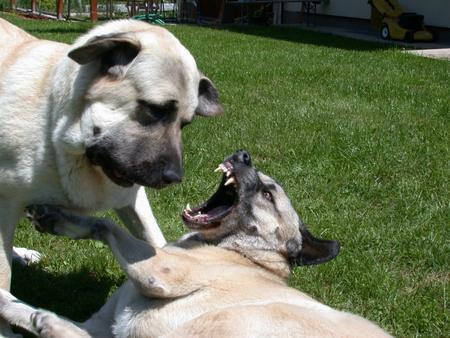kangal: (0, 149, 395, 338), (0, 17, 224, 337)
